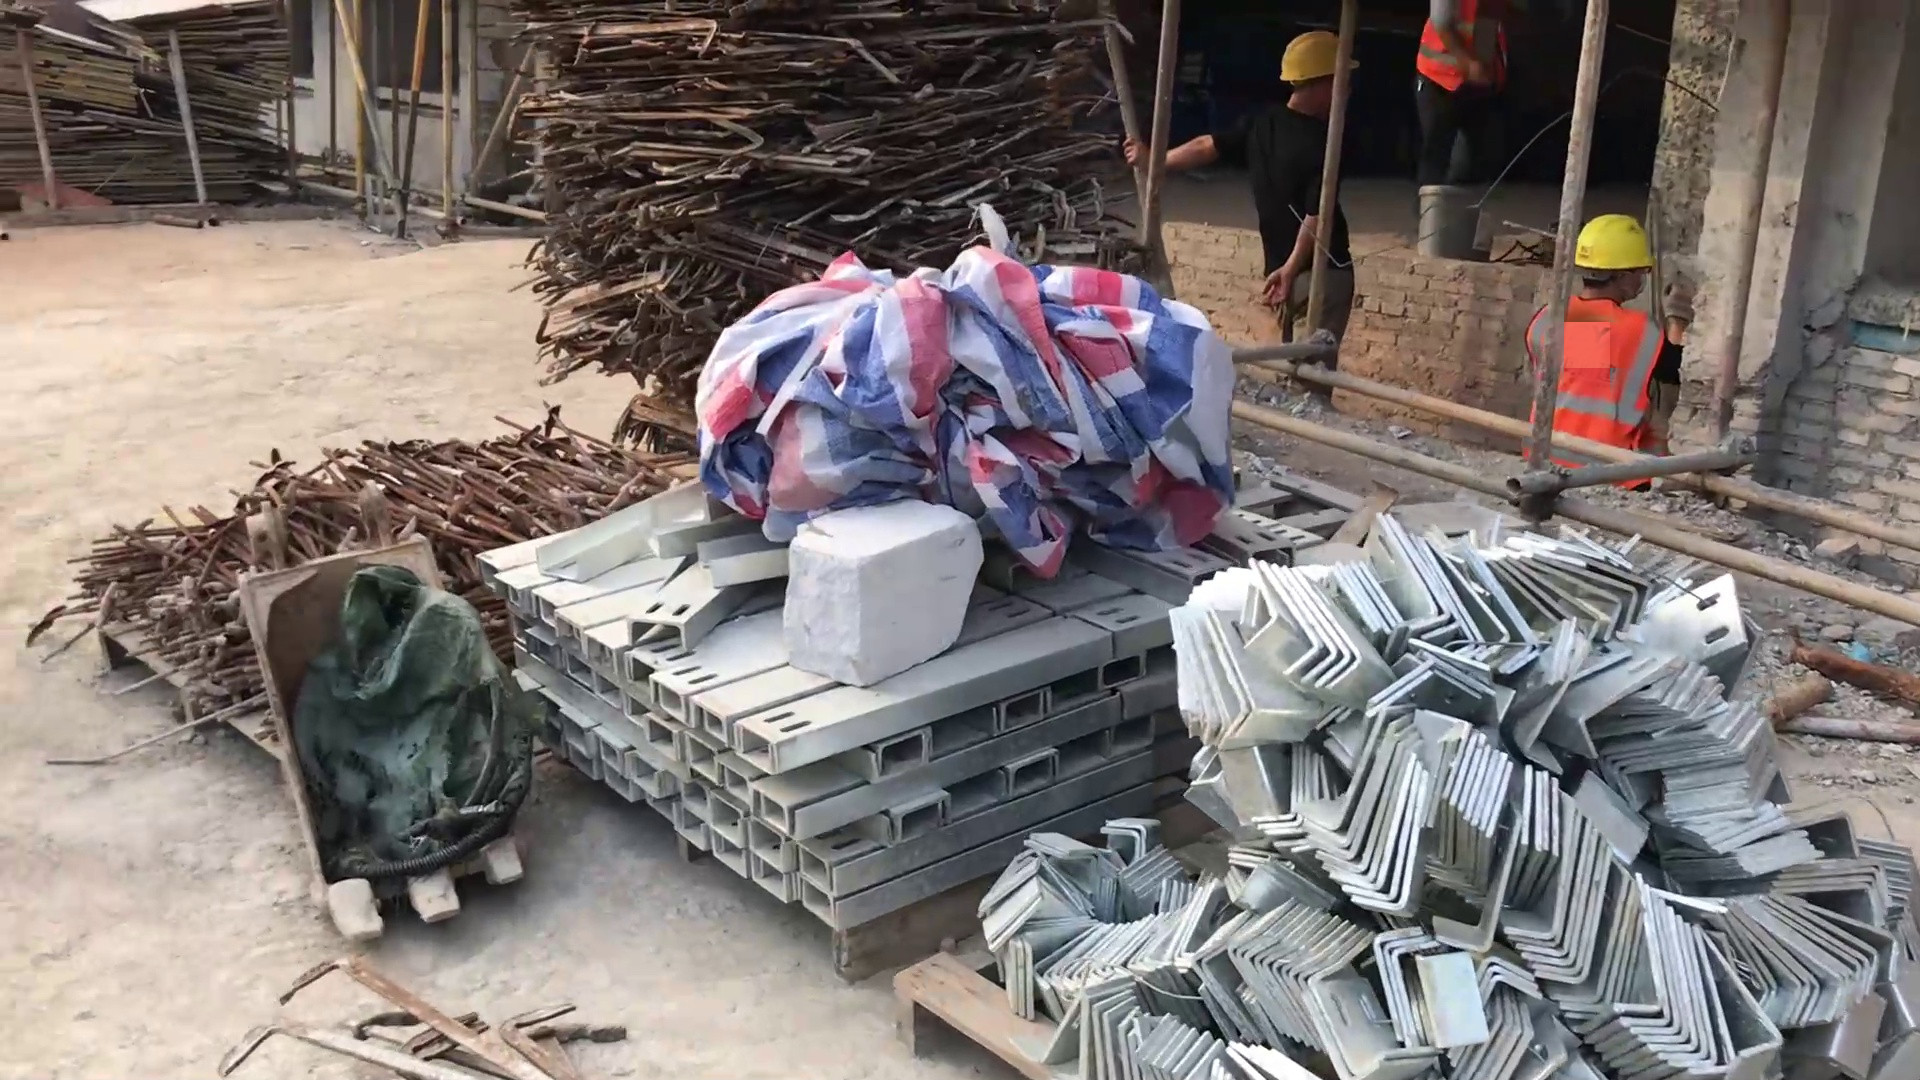helmet: (1578, 211, 1664, 281), (1275, 26, 1360, 88)
rebar: (497, 8, 1141, 256), (123, 429, 615, 549)
vest: (1547, 305, 1673, 475), (1415, 1, 1507, 102)
